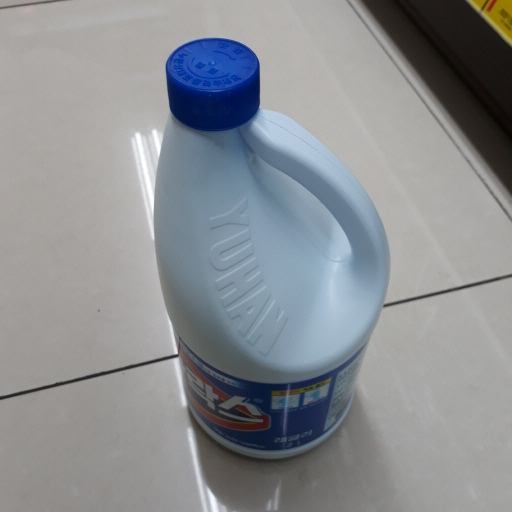Plastic_1: (157, 35, 392, 464)
